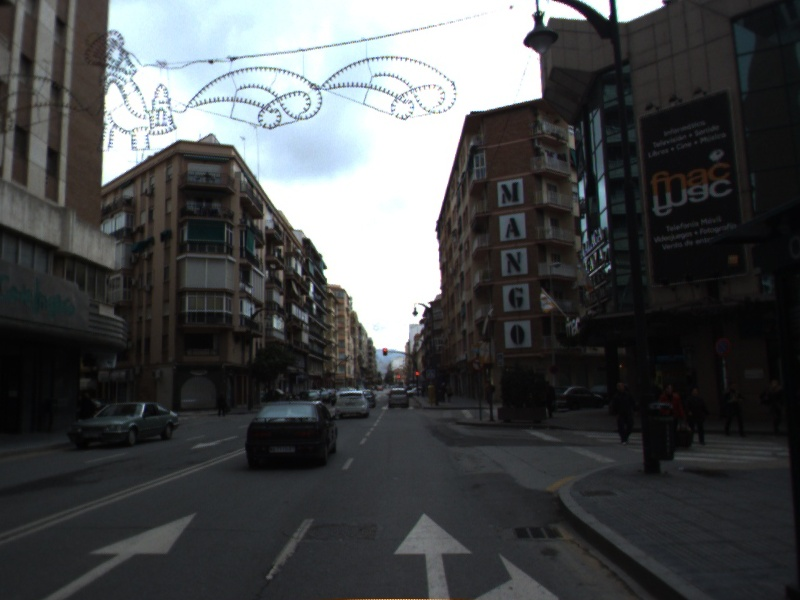STRAIGHT: (38, 510, 199, 600)
STRAIGHT_RIGHT: (392, 511, 562, 600)
